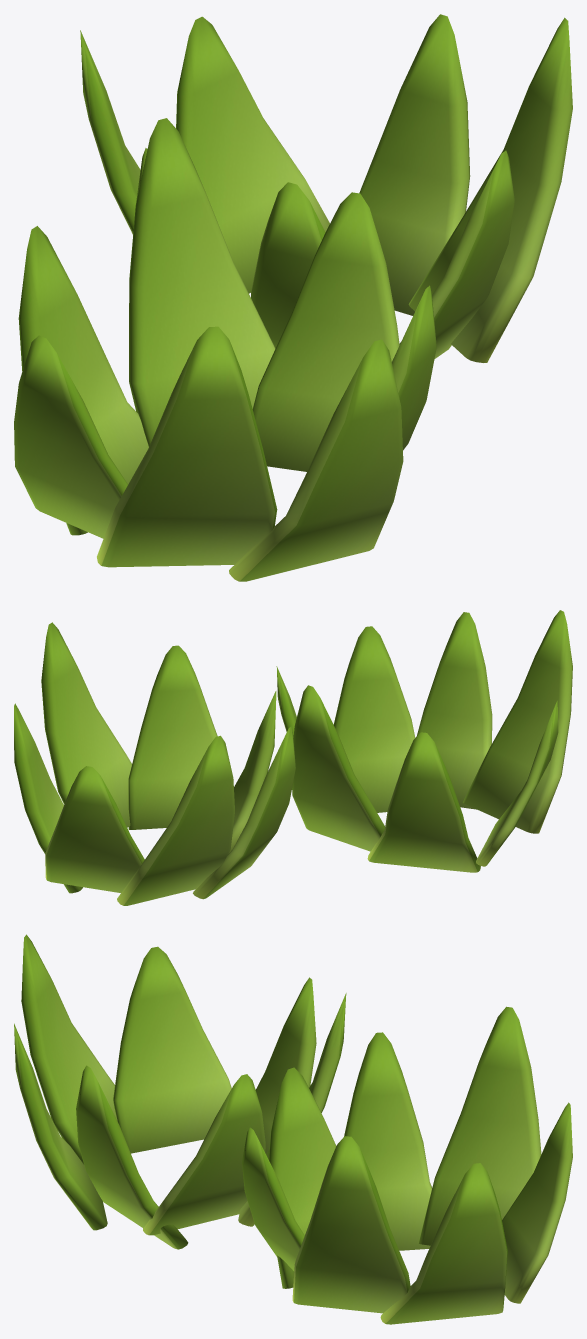
Rendered from Grass2.fbx.
3 views of the same model, one above another, from view 1: azimuth 30°, elevation 25°; view 2: azimuth 150°, elevation 25°; view 3: azimuth 270°, elevation 25° (orthographic). The views are drawn at different scales.
Visible parts, largest first — view 1: Cube.023, Cube.014, Cube.018, Cube.028, Cube.021, Cube.025, Cube.030, Cube.022, Cube.019, Cube.029, Cube.027, Cube.024 (+1 smaller); view 2: Cube.023, Cube.029, Cube.024, Cube.020, Cube.019, Cube.030, Cube.014, Cube.021, Cube.025, Cube.026, Cube.028, Cube.027 (+2 smaller); view 3: Cube.022, Cube.030, Cube.024, Cube.028, Cube.026, Cube.018, Cube.023, Cube.025, Cube.027, Cube.020, Cube.021, Cube.029 (+2 smaller).
Part boxes in pixels (x1,y1,x2,y2): Cube.023: (97, 326, 277, 567); Cube.014: (129, 118, 275, 446); Cube.018: (252, 192, 399, 471); Cube.028: (359, 14, 470, 315); Cube.021: (229, 339, 403, 581); Cube.025: (176, 16, 329, 293); Cube.030: (408, 17, 572, 362); Cube.022: (14, 335, 127, 538); Cube.019: (18, 226, 148, 535); Cube.029: (399, 150, 514, 358); Cube.027: (251, 182, 325, 348); Cube.024: (80, 30, 140, 234); Cube.023: (463, 610, 572, 833); Cube.029: (128, 645, 217, 829); Cube.024: (117, 735, 234, 905); Cube.020: (333, 626, 415, 812); Cube.019: (367, 732, 480, 872); Cube.030: (41, 622, 131, 827); Cube.014: (292, 685, 384, 851); Cube.021: (417, 612, 492, 809); Cube.025: (45, 766, 144, 892); Cube.026: (193, 726, 295, 899); Cube.028: (14, 703, 82, 893); Cube.027: (228, 691, 276, 853); Cube.022: (113, 946, 231, 1153); Cube.030: (292, 1136, 410, 1313); Cube.024: (418, 1006, 541, 1245); Cube.028: (380, 1163, 507, 1324); Cube.026: (344, 1032, 432, 1250); Cube.018: (143, 1074, 265, 1235); Cube.023: (21, 934, 117, 1164); Cube.025: (502, 1102, 572, 1303); Cube.027: (269, 1067, 336, 1288); Cube.020: (76, 1065, 188, 1249); Cube.021: (14, 1023, 107, 1230); Cube.029: (242, 1127, 304, 1271).
Bounding box in the file's own units: 68.77 × 30.74 × 69.43.
Materials: 14 (14 with a texture image).
